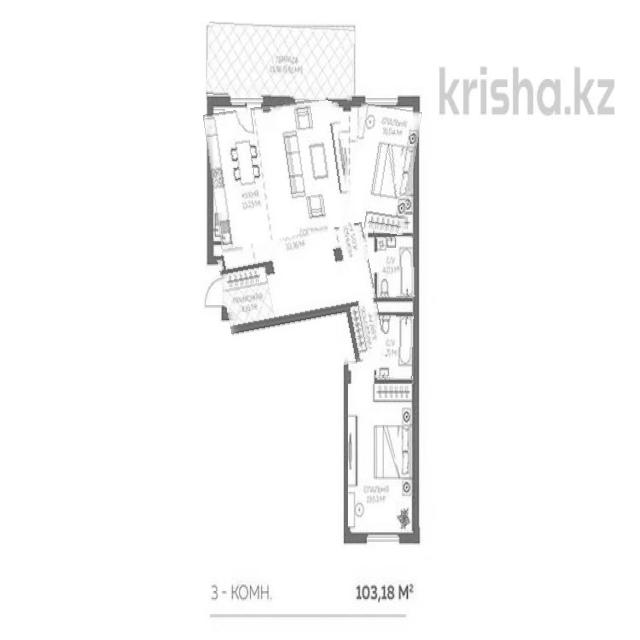balcony: (207, 23, 355, 101)
bathroom: (376, 315, 414, 379), (377, 236, 415, 298)
hallway: (220, 223, 387, 362)
living_room: (342, 102, 422, 234), (348, 384, 414, 531)
studio: (203, 103, 358, 263)
